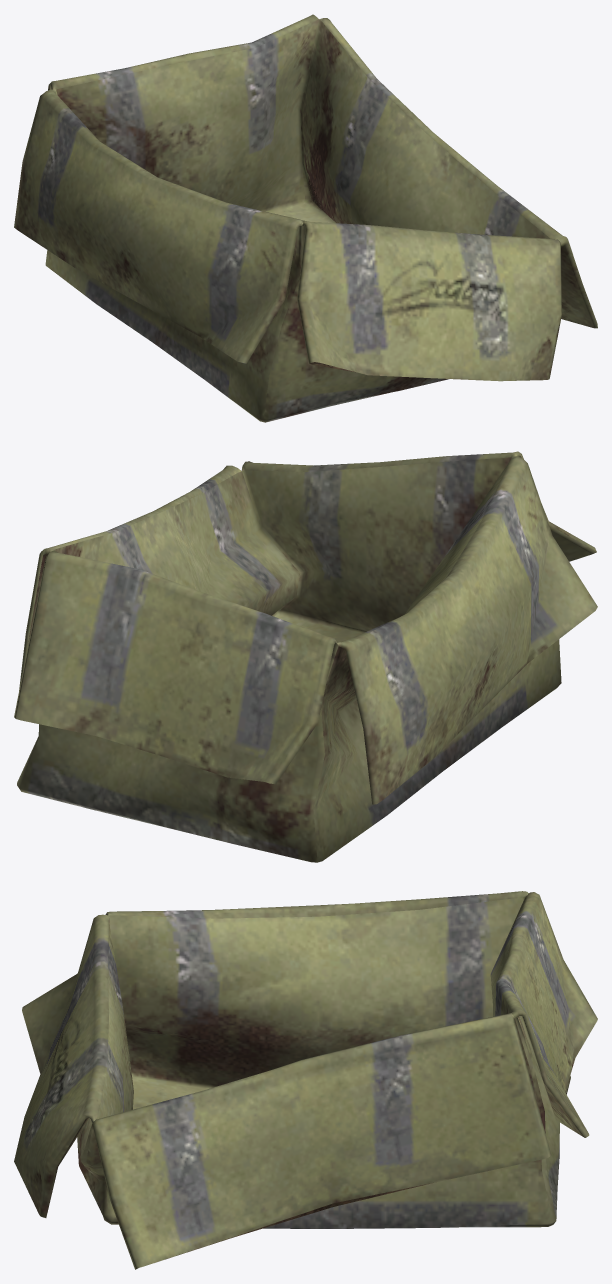
The model's file is cardboardBox03_c.FBX.
The picture shows the model from 3 angles, top to bottom: view 1: azimuth 30°, elevation 25°; view 2: azimuth 150°, elevation 25°; view 3: azimuth 270°, elevation 25°; orthographic projection. The views are drawn at different scales.
Visible parts, largest first — view 1: SM_CardboardBox03; view 2: SM_CardboardBox03; view 3: SM_CardboardBox03.
Part boxes in pixels (x1,y1,x2,y2): SM_CardboardBox03: (14,14,597,422); SM_CardboardBox03: (14,451,597,862); SM_CardboardBox03: (14,891,597,1269).
Bounding box in the file's own units: 38.57 × 18.83 × 47.38.
1 material, 1 textured.
